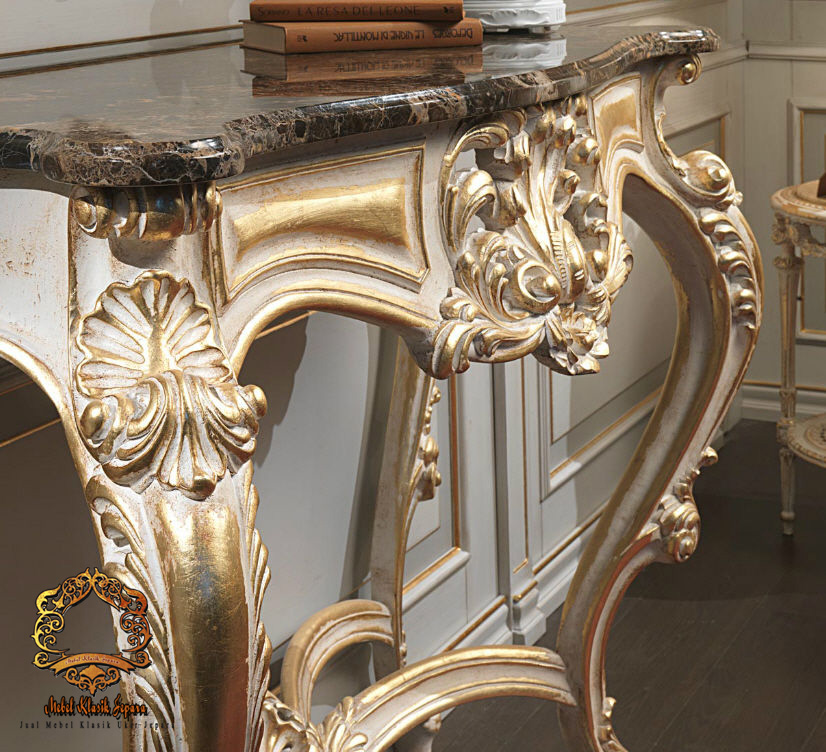Carving Table: (24, 52, 778, 751)
